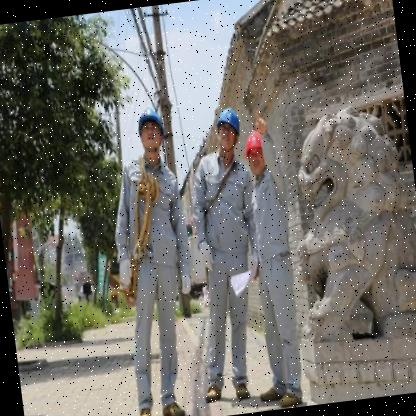capacete: (132, 104, 166, 157), (212, 104, 245, 154), (243, 128, 268, 176)
sem_colete_refletivo: (106, 151, 192, 273), (183, 147, 261, 259), (245, 168, 296, 256)
